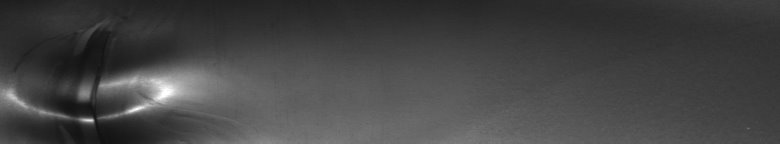ke: (4, 20, 224, 136)
